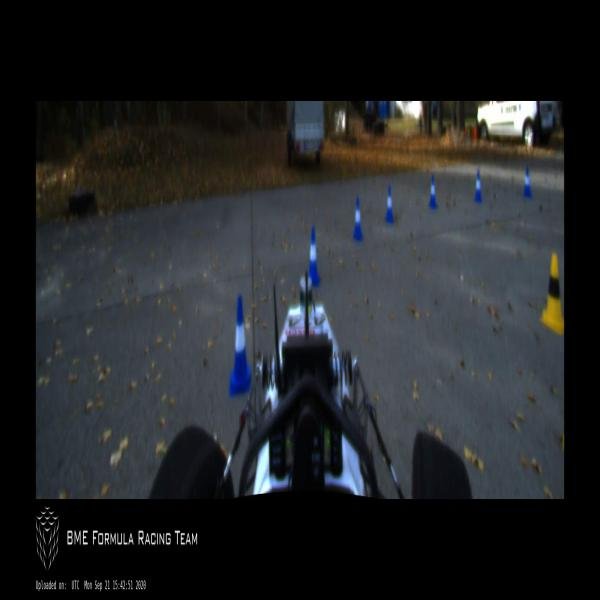blue_cone: (228, 296, 251, 396), (306, 226, 320, 286), (353, 198, 363, 240), (385, 185, 394, 223), (523, 166, 532, 197), (429, 174, 437, 207), (474, 170, 482, 201)
yellow_cone: (540, 254, 564, 332)
